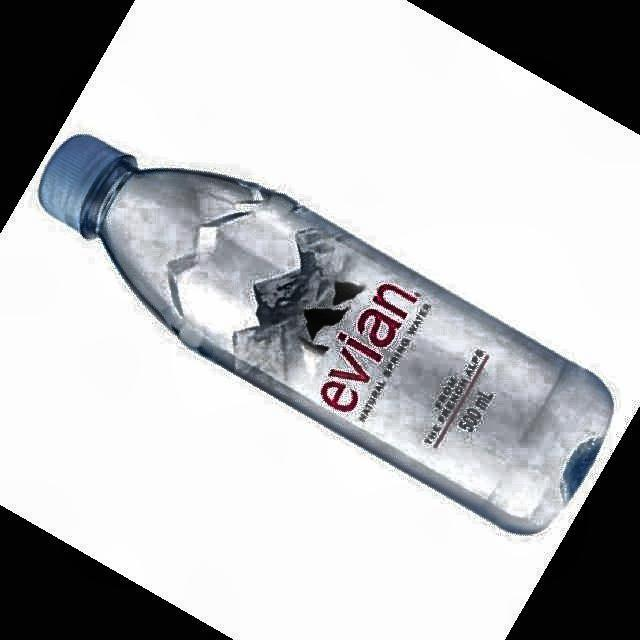plastic: (40, 136, 612, 532)
